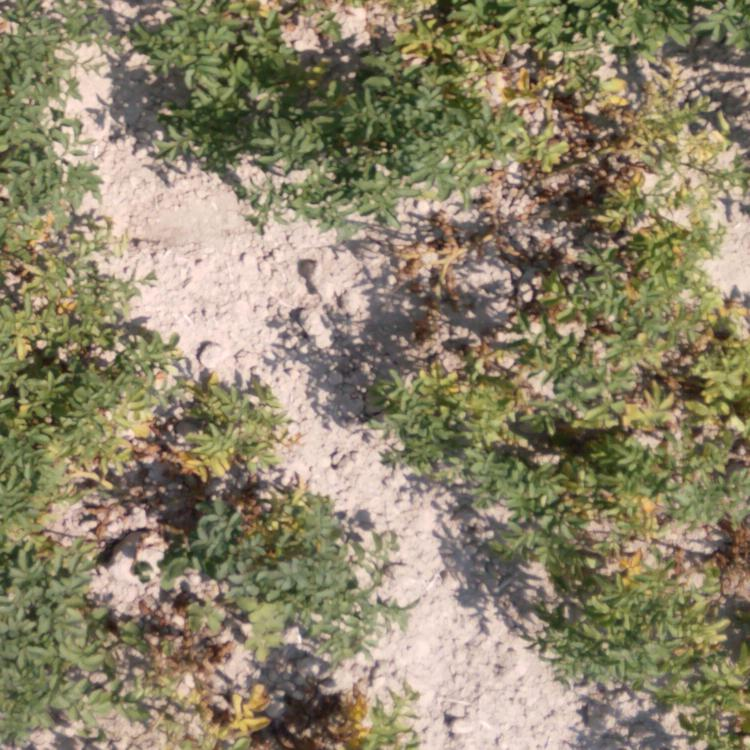healthy: (1, 1, 108, 210), (131, 1, 274, 147), (282, 39, 377, 207), (3, 553, 81, 748)
stressed: (545, 204, 671, 691), (408, 1, 727, 174), (2, 213, 151, 546), (102, 608, 401, 750), (673, 281, 750, 750), (171, 375, 328, 599), (446, 360, 529, 565), (358, 357, 443, 441), (429, 229, 493, 282)
